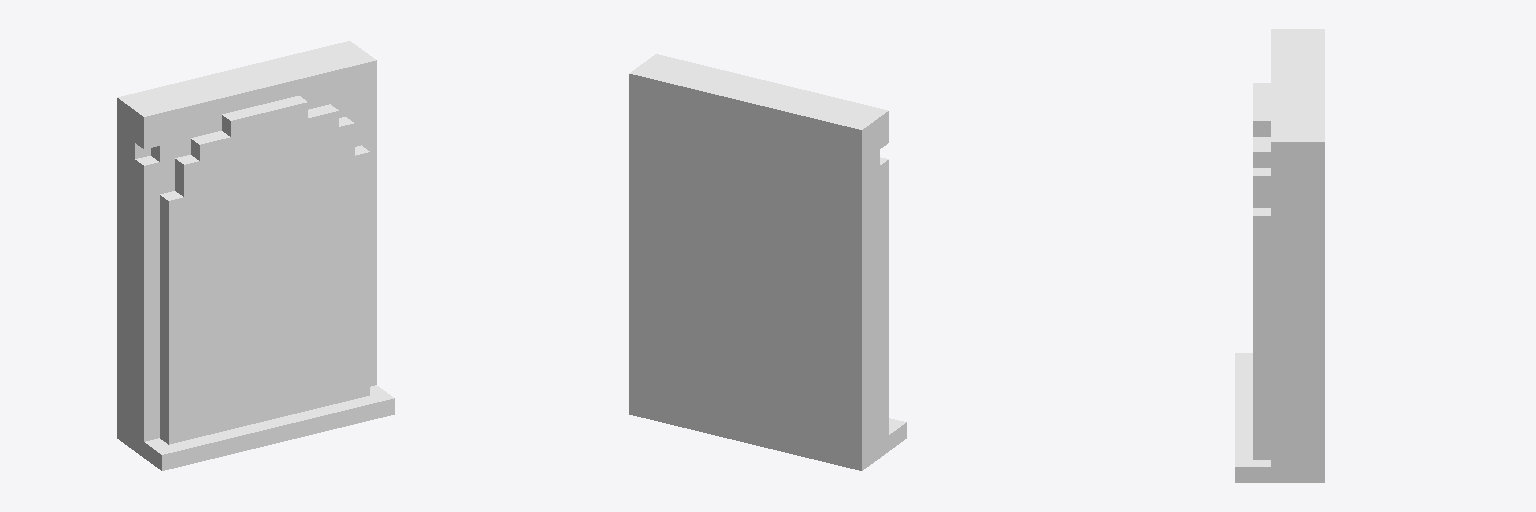
File: window.vox.obj
3 renders of one model, left to right at view 1: azimuth 30°, elevation 25°; view 2: azimuth 150°, elevation 25°; view 3: azimuth 270°, elevation 25°, orthographic.
Parts seen in each view (by area): view 1: object 1; view 2: object 1; view 3: object 1.
Part boxes in pixels (x1,y1,x2,y2): object 1: (117, 41, 394, 470); object 1: (629, 54, 906, 470); object 1: (1235, 29, 1324, 482).
Bounding box in the file's own units: 1.5 × 2.1 × 0.5.